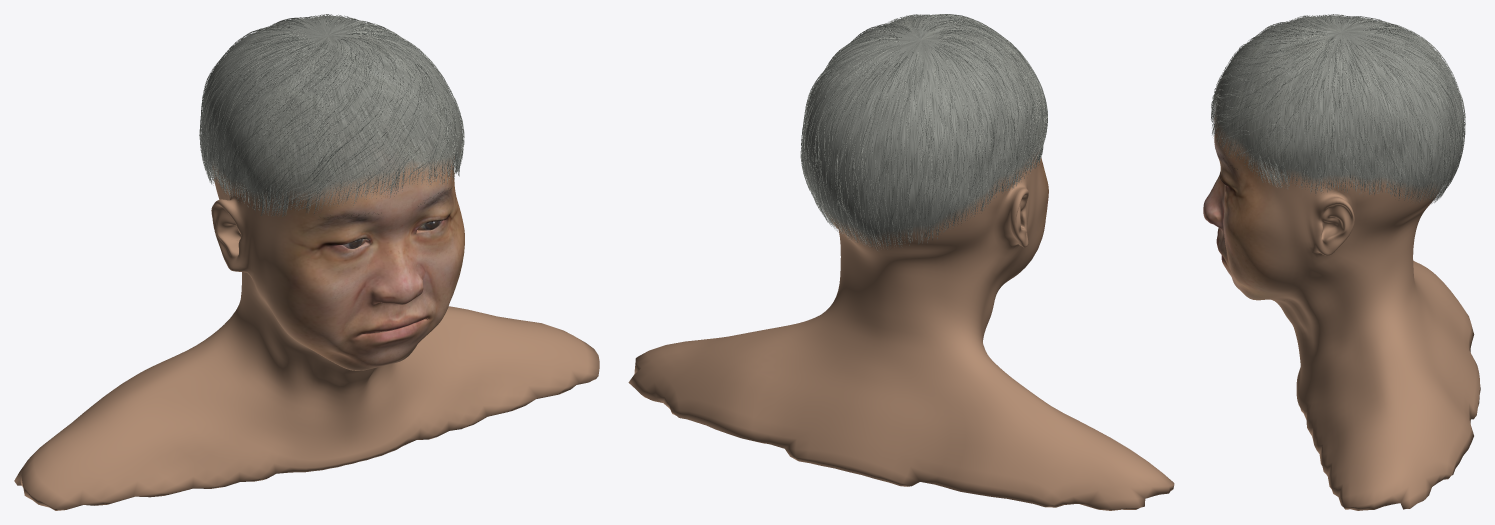
Rendered from director_wu.glb.
3 views of the same model, side by side, from view 1: azimuth 30°, elevation 25°; view 2: azimuth 150°, elevation 25°; view 3: azimuth 270°, elevation 25° (orthographic). The views are drawn at different scales.
Parts seen in each view (by area): view 1: anatomy_head_and_neck, detail_hair_foundation, detail_swept_silver_strands, detail_temporal_wisps; view 2: anatomy_head_and_neck, detail_hair_foundation, detail_swept_silver_strands; view 3: anatomy_head_and_neck, detail_hair_foundation, detail_swept_silver_strands, detail_temporal_wisps.
Part boxes in pixels (x1,y1,x2,y2): anatomy_head_and_neck: [14, 156, 599, 510]; detail_hair_foundation: [201, 15, 462, 202]; detail_swept_silver_strands: [199, 14, 464, 213]; detail_temporal_wisps: [260, 138, 463, 216]; anatomy_head_and_neck: [628, 152, 1174, 510]; detail_hair_foundation: [802, 15, 1046, 241]; detail_swept_silver_strands: [800, 14, 1047, 250]; anatomy_head_and_neck: [1203, 116, 1480, 510]; detail_hair_foundation: [1213, 15, 1463, 193]; detail_swept_silver_strands: [1211, 14, 1465, 203]; detail_temporal_wisps: [1258, 155, 1288, 188].
Bounding box in the file's own units: 1 × 0.6995 × 0.4801.
Materials: 6 (3 with a texture image).
